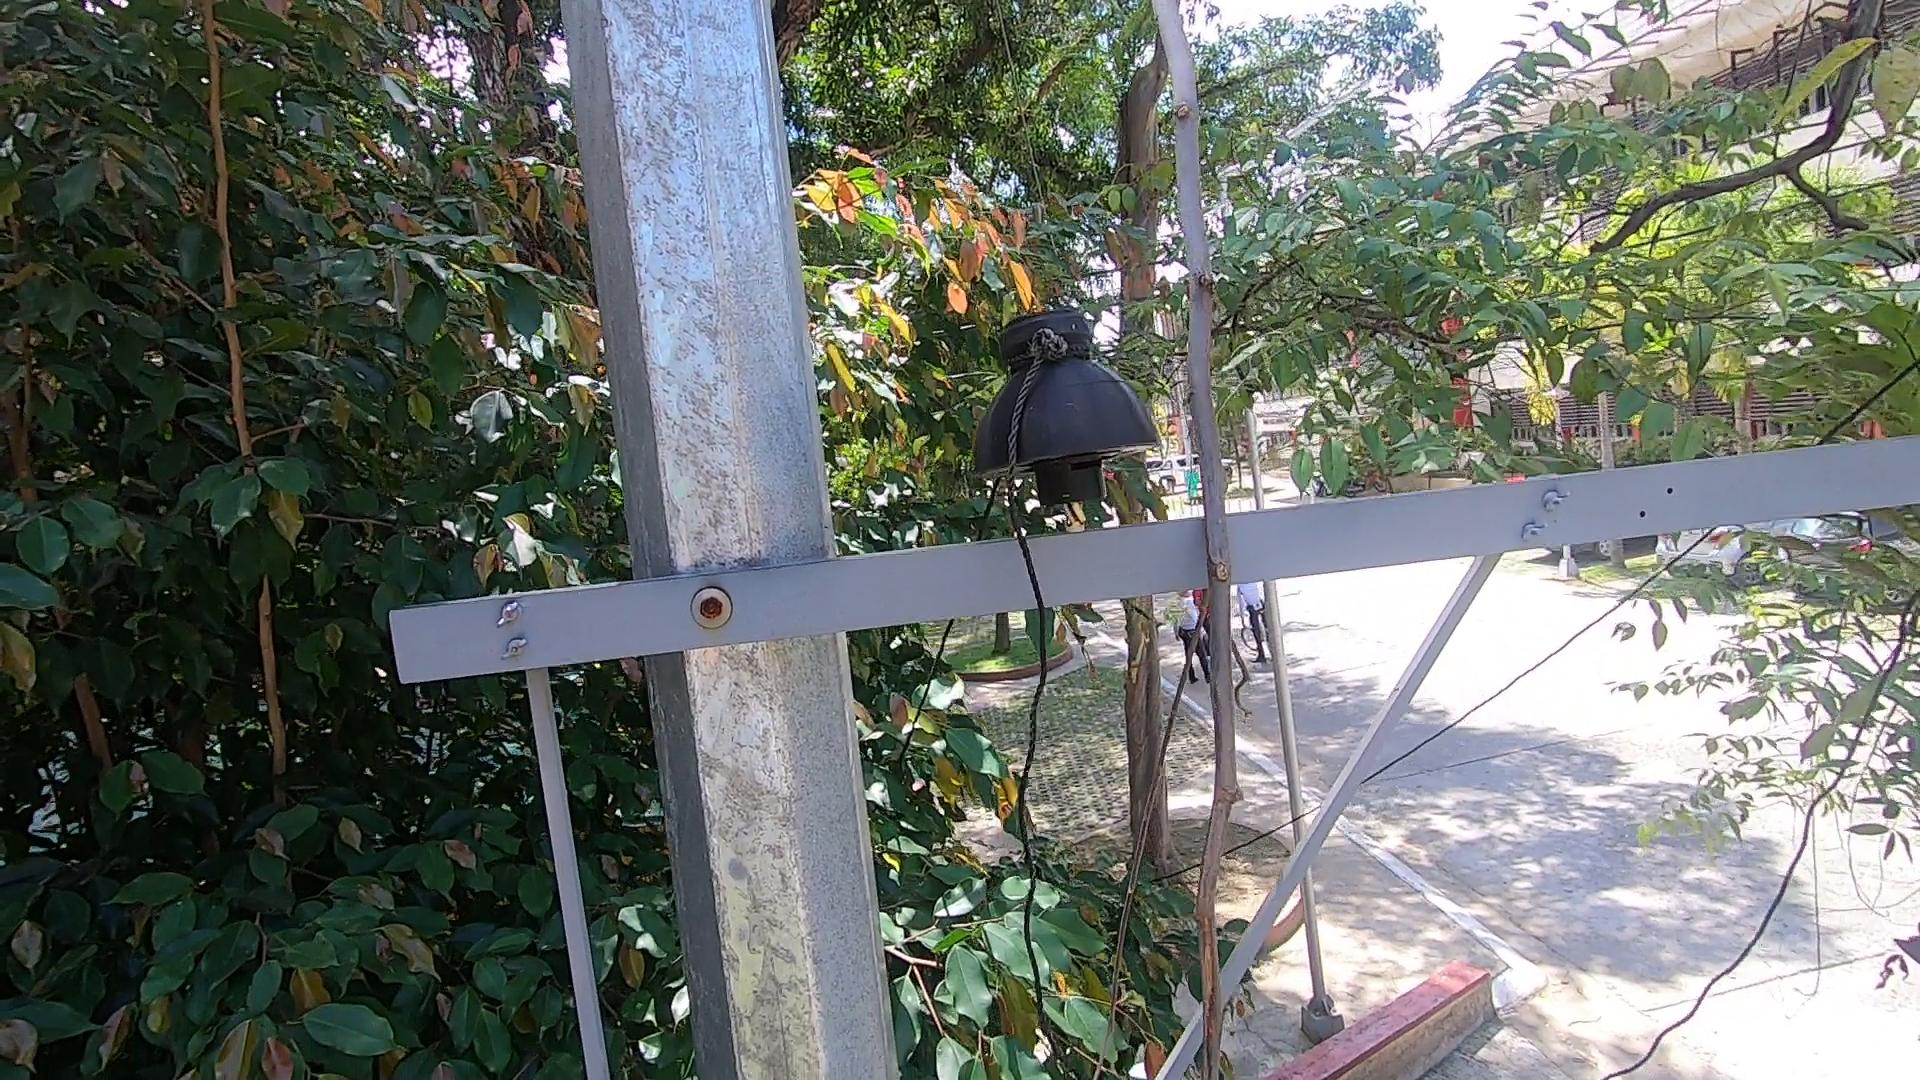tree branch: (1126, 1, 1327, 1077)
